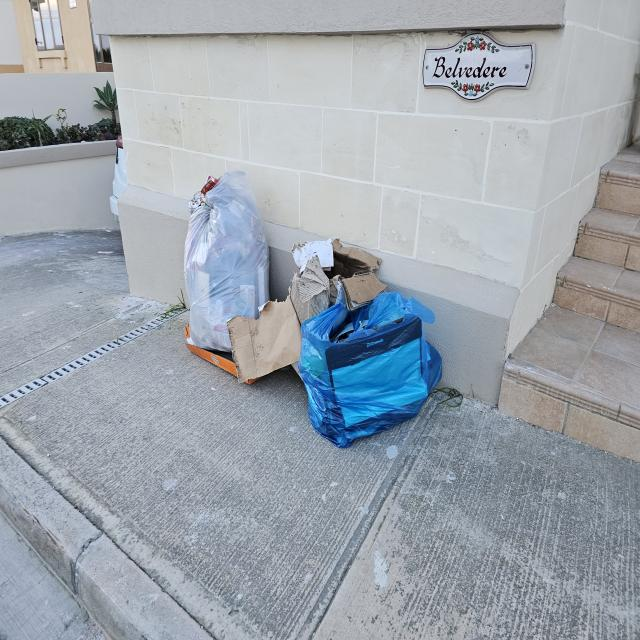grey_bag: (185, 166, 268, 358)
other_waste: (251, 238, 442, 445)
